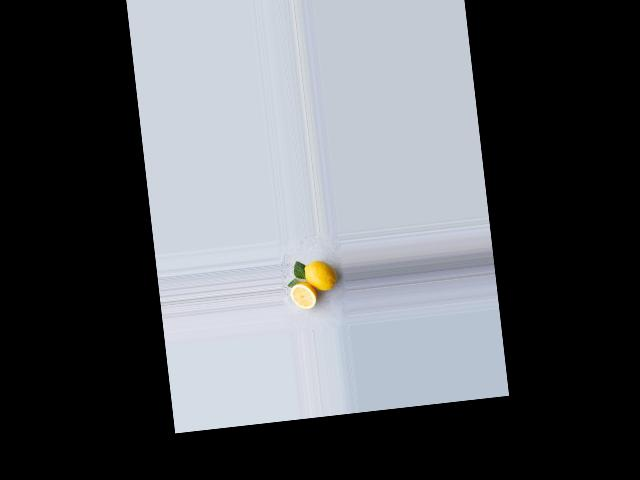lemon: (300, 255, 338, 292)
